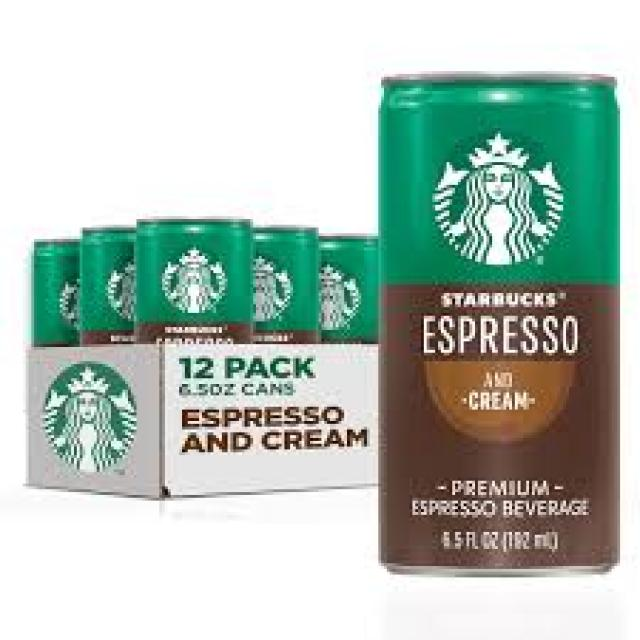Cans: (367, 66, 629, 583)
